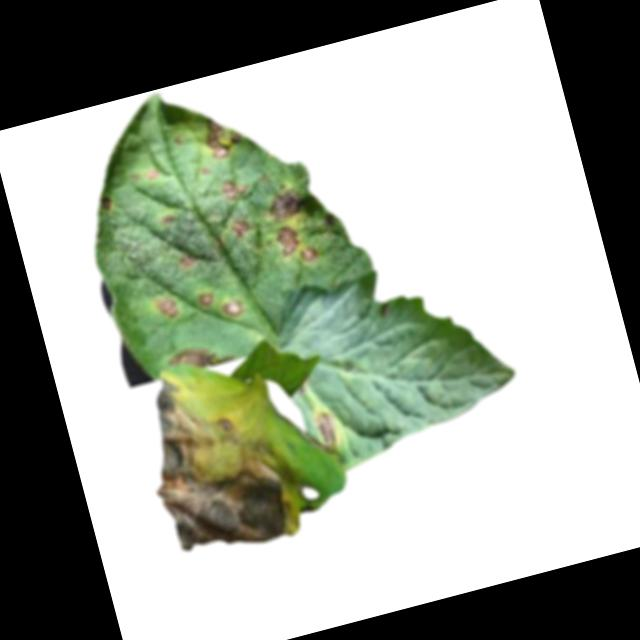Early_blight: (129, 350, 316, 566), (162, 333, 234, 375), (198, 106, 249, 163), (262, 188, 308, 222), (310, 402, 341, 450), (273, 221, 302, 259), (217, 173, 251, 205), (219, 293, 247, 320), (154, 291, 180, 320), (230, 216, 254, 240), (177, 249, 199, 269), (143, 163, 162, 182), (301, 244, 321, 262), (197, 288, 215, 306), (157, 211, 174, 227)
